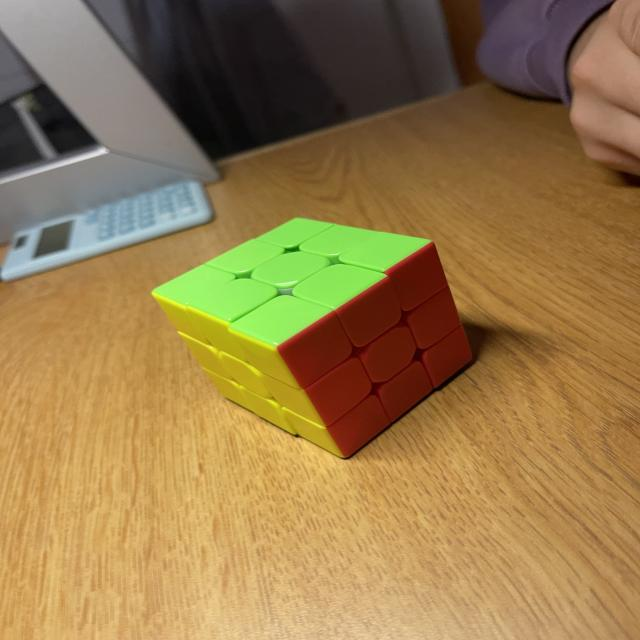Rubiks Cube: (147, 218, 473, 458)
